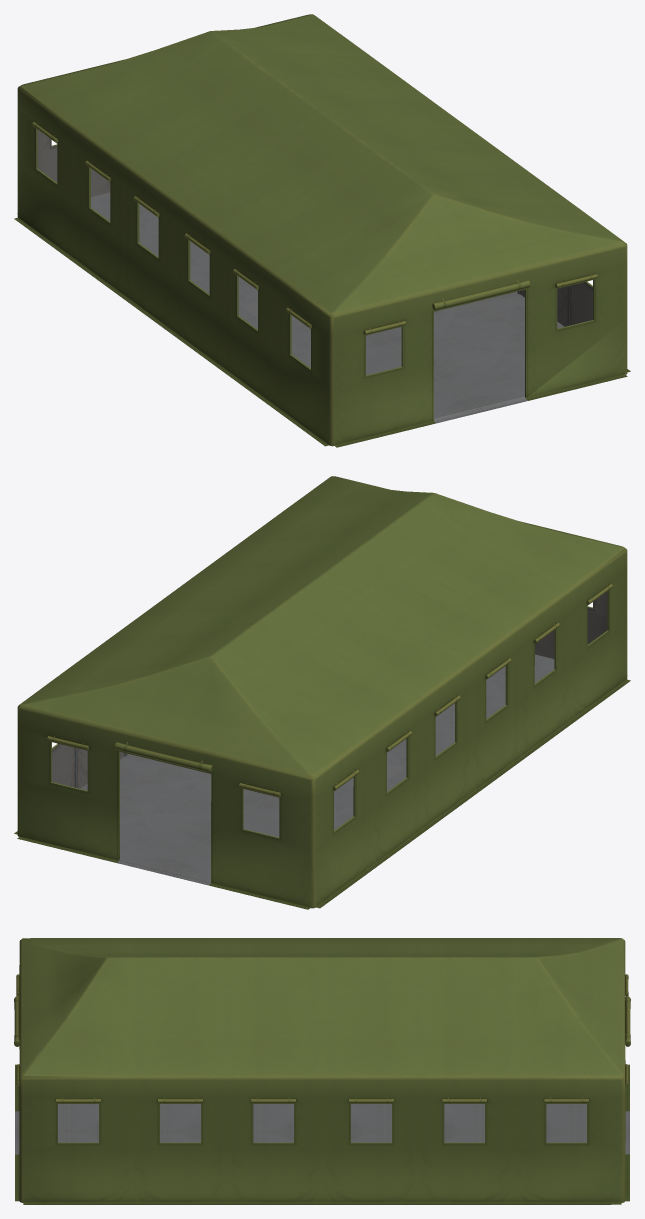
File: Tent_Double_Window.fbx
3 renders of one model, top to bottom at view 1: azimuth 30°, elevation 25°; view 2: azimuth 150°, elevation 25°; view 3: azimuth 270°, elevation 25°, orthographic. The views are drawn at different scales.
Visible parts, largest first — view 1: Tent02_3; view 2: Tent02_3; view 3: Tent02_3.
Boxes of the visible parts, x1,y1,x2,y2 form: Tent02_3: [14, 14, 630, 447]; Tent02_3: [14, 476, 630, 909]; Tent02_3: [14, 938, 630, 1204].
Bounding box in the file's own units: 832 × 474 × 1510.
